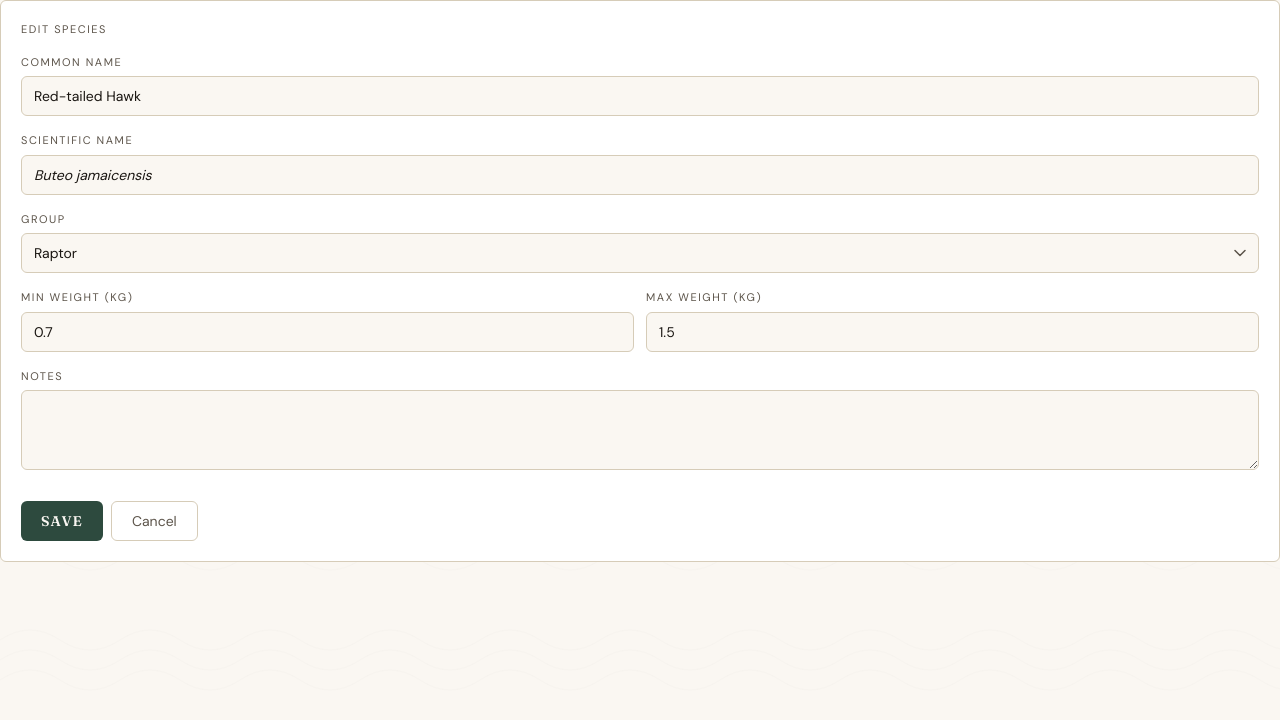
it: SpeciesEditor › shows a failed save and lets the admin retry
Click the button "Save" at (62, 521), box [21,501,103,541]
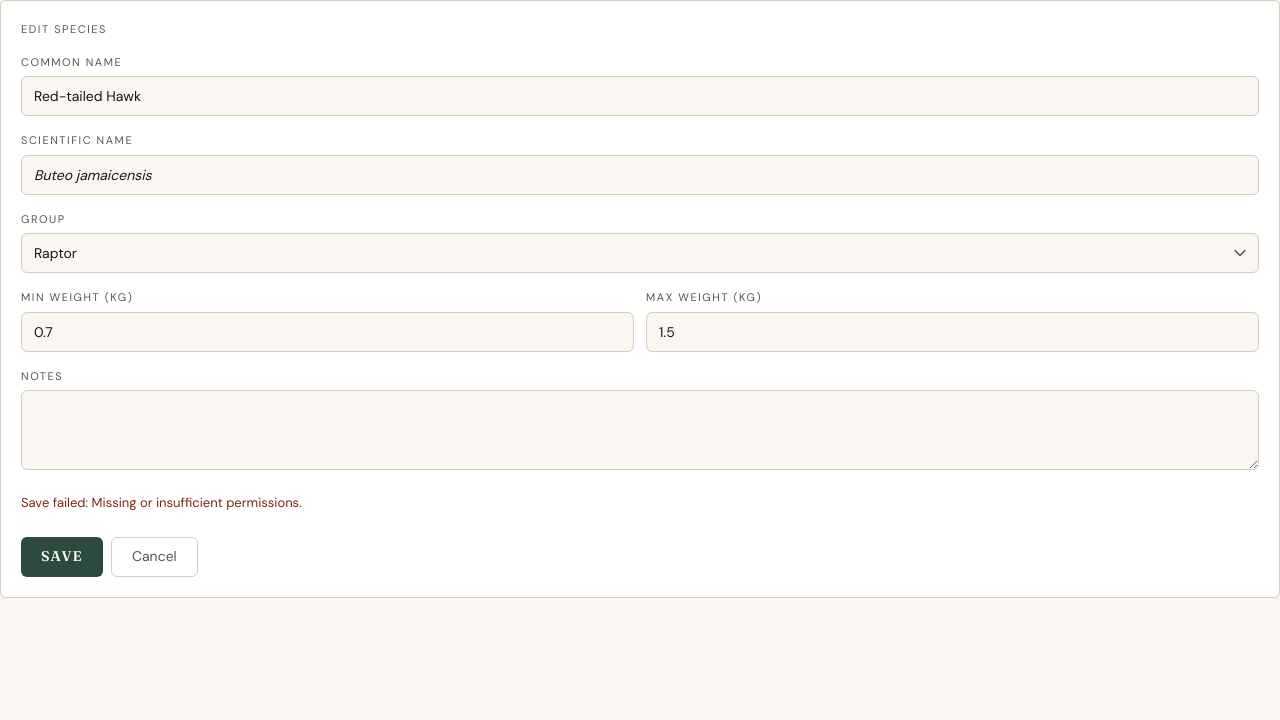
Expected: the button "Save" is enabled, [21,536,103,576]
Now the text "Save failed: Missing or insufficient permissions." is shown, box [21,494,302,511]
